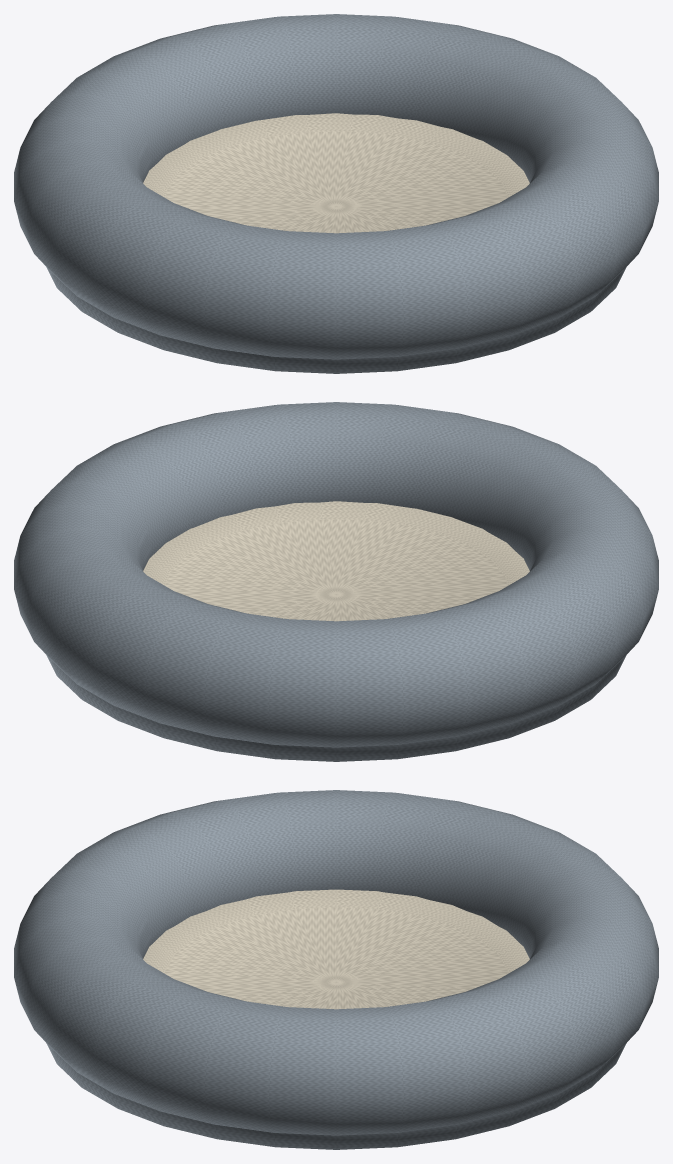
The model's file is pet-bed.glb.
3 renders of one model, top to bottom at view 1: azimuth 30°, elevation 25°; view 2: azimuth 150°, elevation 25°; view 3: azimuth 270°, elevation 25°, orthographic.
Parts seen in each view (by area): view 1: pet-bed; view 2: pet-bed; view 3: pet-bed.
Boxes of the visible parts, left/top/right/bottom form: pet-bed: left=14, top=14, right=658, bottom=373; pet-bed: left=14, top=402, right=658, bottom=761; pet-bed: left=14, top=790, right=658, bottom=1149.
Bounding box in the file's own units: 0.75 × 0.1631 × 0.7459.
Materials: 2 (2 with a texture image).
